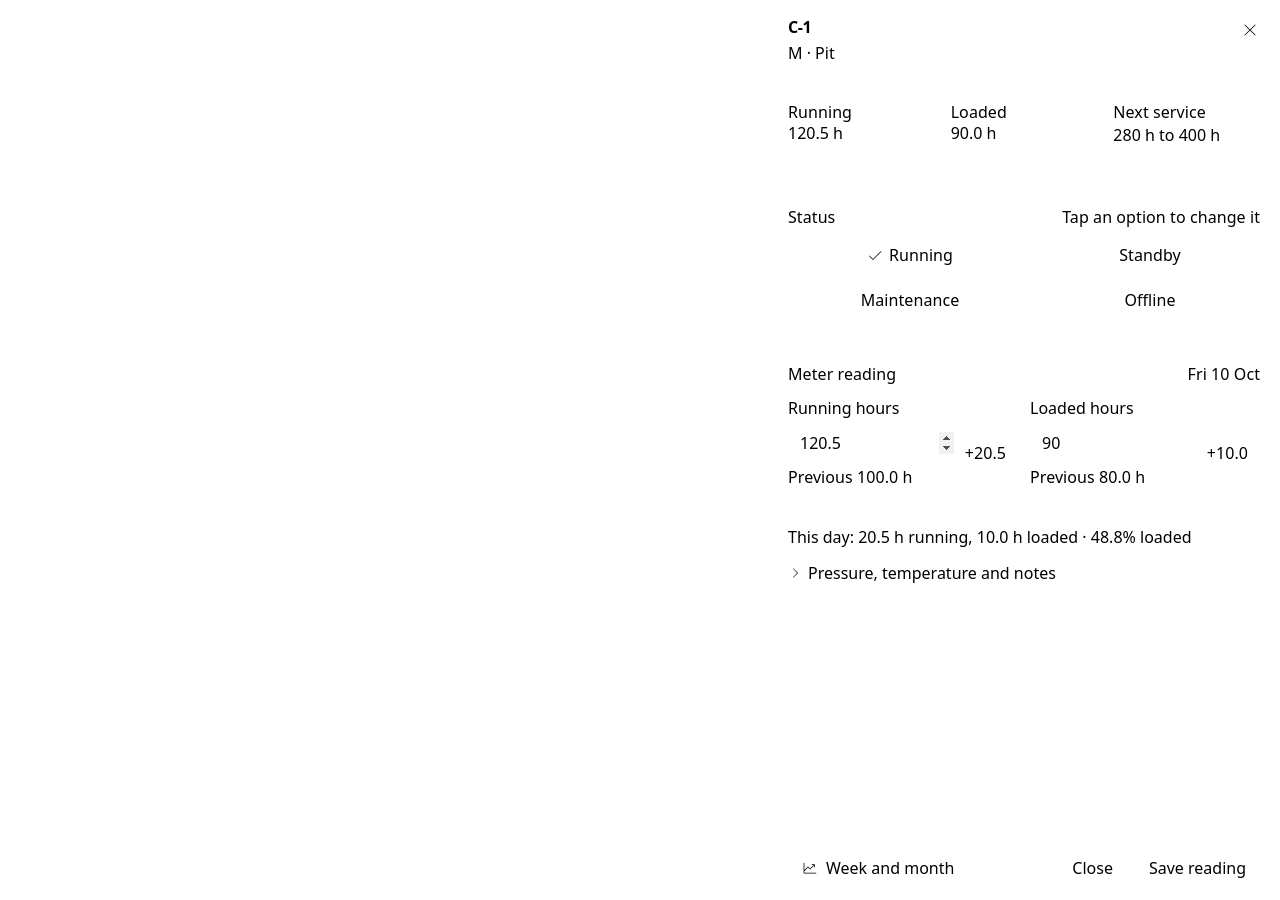
Test case: UnitDrawer guard › a cleared reading explains itself instead of refusing silently
Step 1. Clear the number field labelled "Running hours" → x=903, y=443, box [788,425,1018,461]
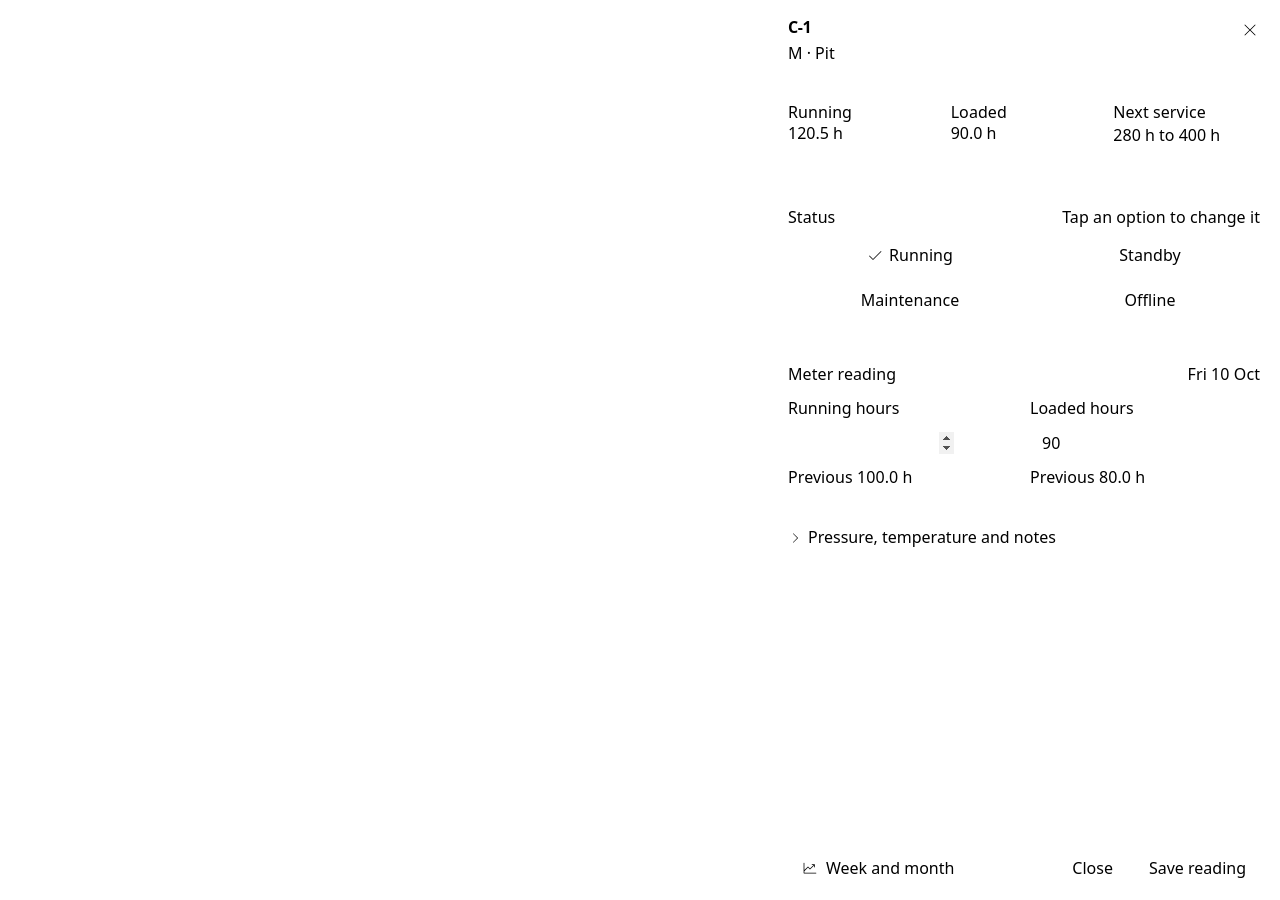
Step 2. Click the button "Save reading" → x=1197, y=868, box [1135,850,1260,886]
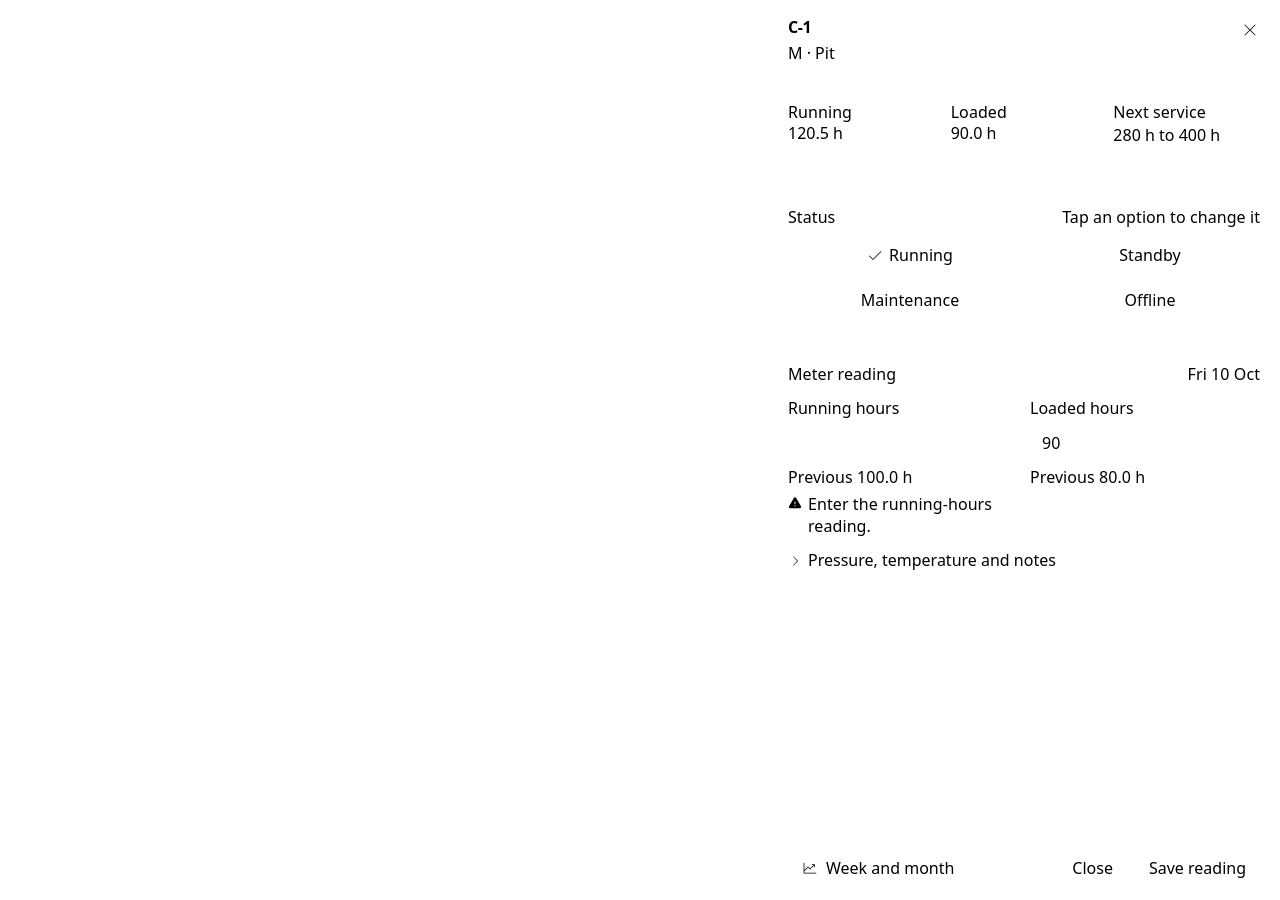
Check: the text "Enter the running-hours reading." is shown, box [808,494,1018,537]
